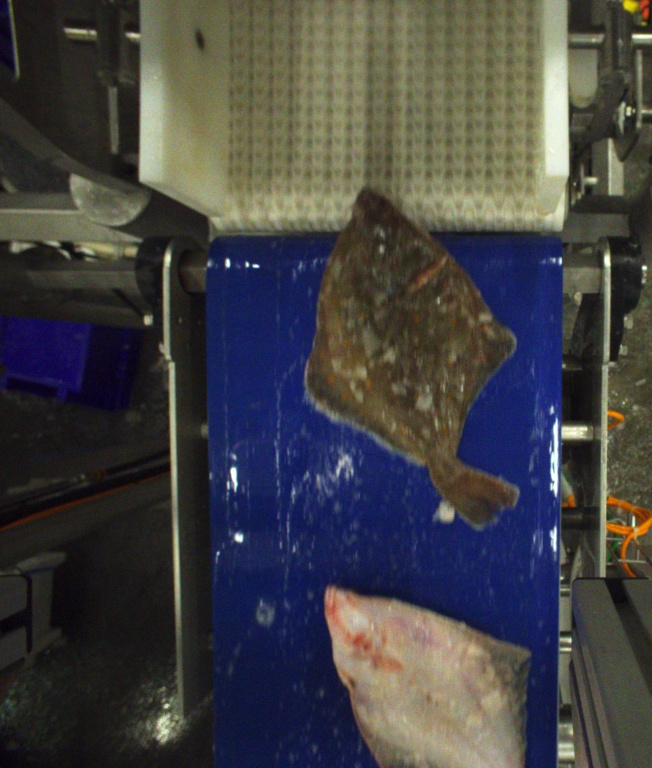PLE: (303, 186, 521, 534)
